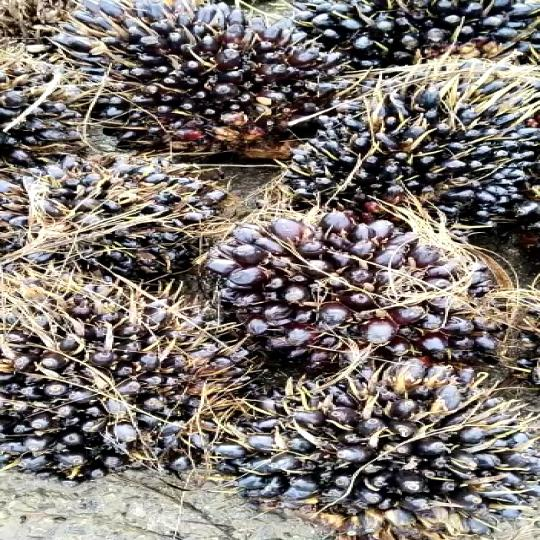mentah: (197, 215, 540, 370), (0, 267, 228, 499), (252, 365, 540, 535), (289, 49, 529, 239), (44, 0, 344, 149), (0, 138, 246, 290), (0, 41, 121, 166)
